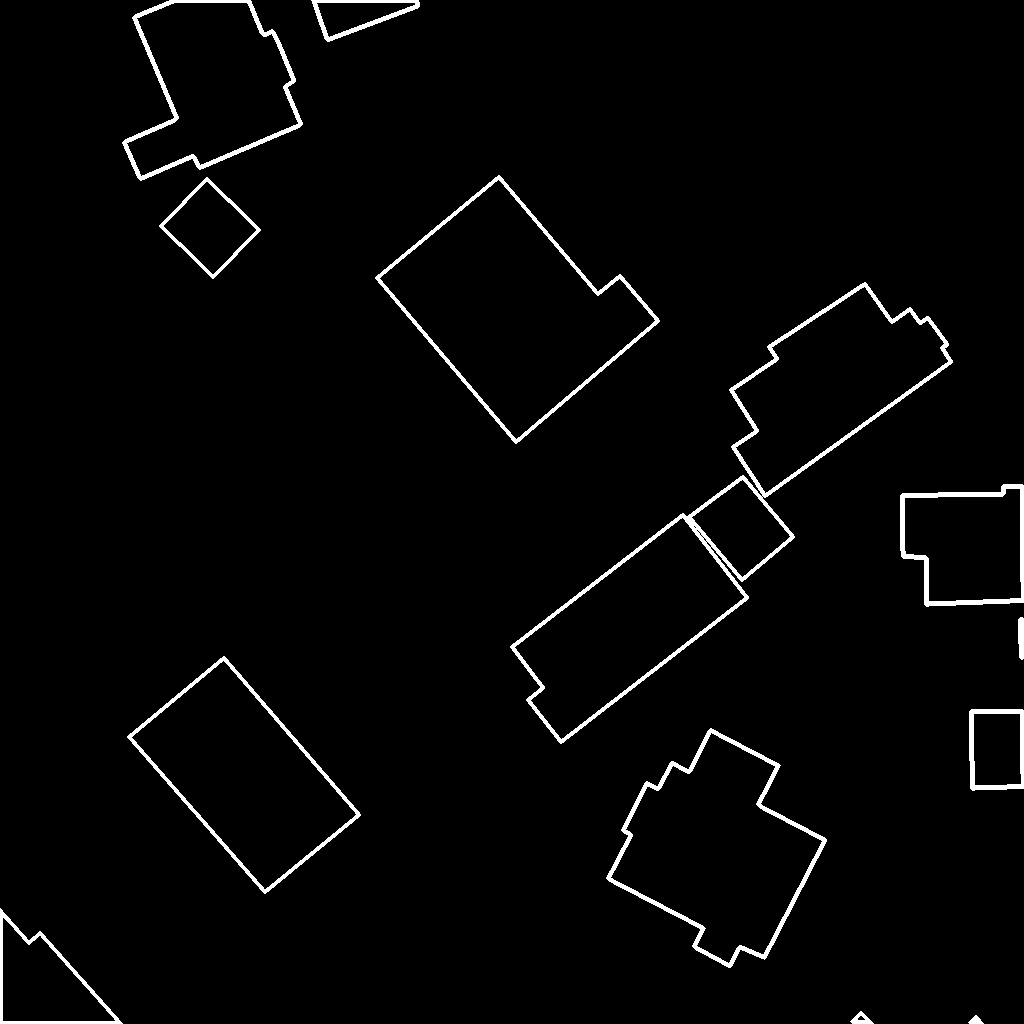building: (377, 177, 659, 443), (129, 658, 360, 893), (512, 515, 748, 743), (608, 730, 826, 967), (731, 284, 952, 497), (124, 0, 302, 180), (902, 486, 1024, 605), (0, 910, 122, 1024), (689, 477, 794, 581), (161, 179, 260, 278), (313, 0, 419, 41), (971, 711, 1024, 789), (852, 1013, 983, 1024), (1020, 619, 1024, 659), (0, 184, 2, 187)
